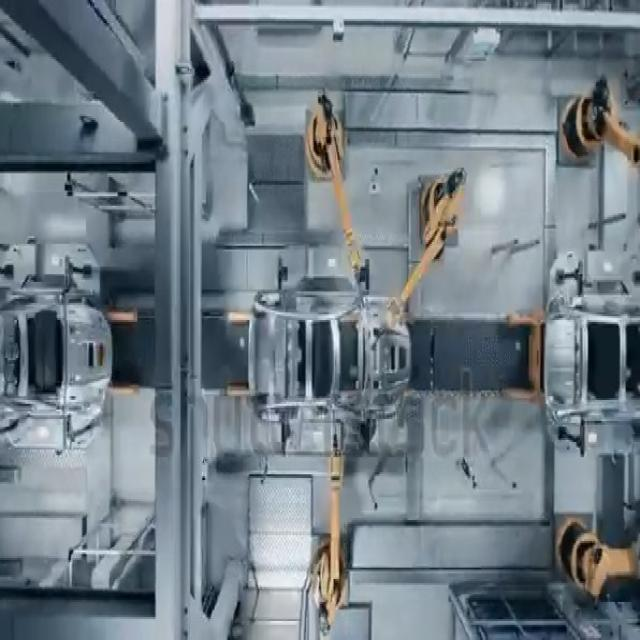auto: (246, 268, 408, 433), (0, 278, 114, 450), (531, 266, 640, 436)
robot: (298, 84, 376, 317), (289, 418, 368, 640), (404, 127, 466, 317), (545, 486, 640, 606), (543, 81, 640, 198)
